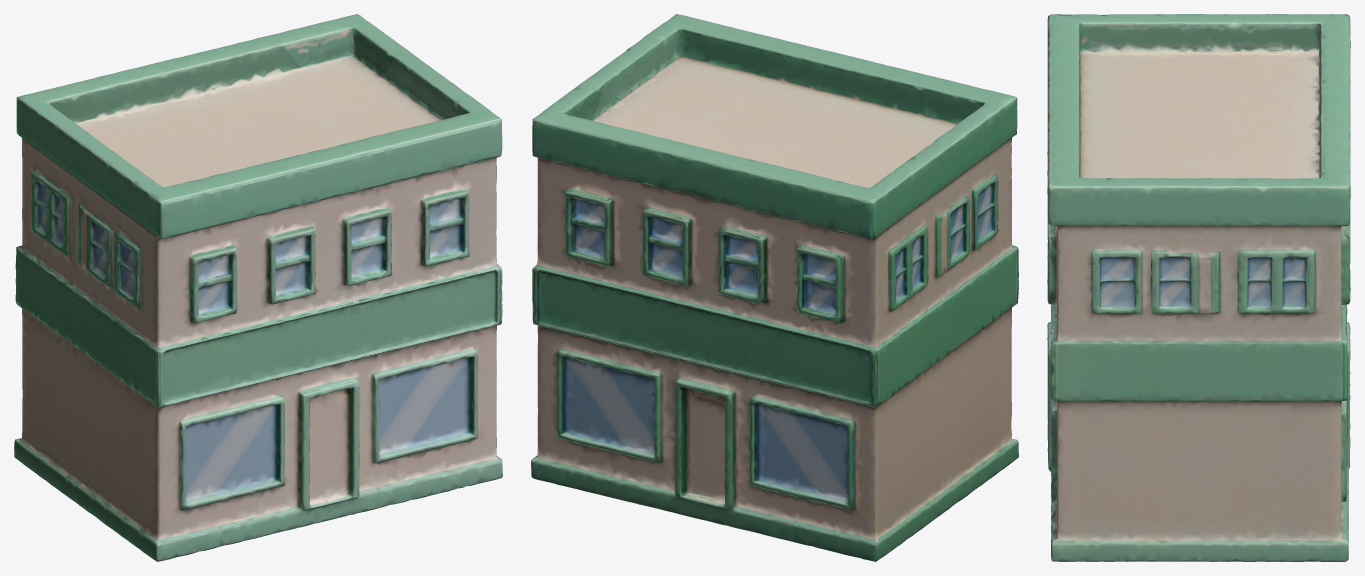
File: P_ShopShellLarge_h1000.fbx
The picture shows the model from 3 angles, left to right: view 1: azimuth 30°, elevation 25°; view 2: azimuth 150°, elevation 25°; view 3: azimuth 270°, elevation 25°; orthographic projection. The views are drawn at different scales.
Parts seen in each view (by area): view 1: texture_mapping; view 2: texture_mapping; view 3: texture_mapping.
Boxes of the visible parts, <box> form: texture_mapping: <box>14,14,502,561</box>; texture_mapping: <box>531,14,1018,561</box>; texture_mapping: <box>1047,14,1350,561</box>.
Bounding box in the file's own units: 1 × 0.73 × 0.9982.
Materials: 1 (1 with a texture image).
